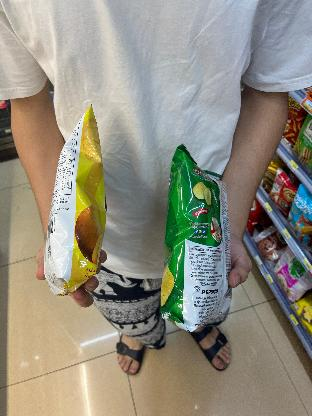Plastic Packaging: (162, 142, 242, 342), (36, 104, 106, 300)
